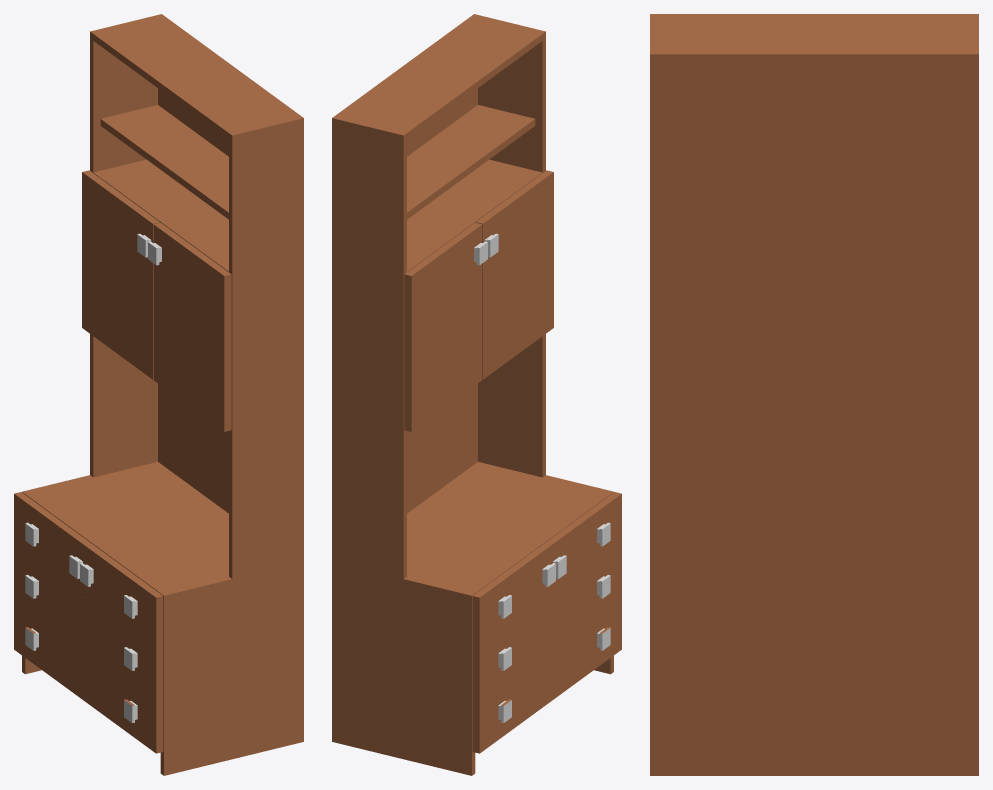
The model's file is 70s.WallSection.fbx.
3 views of the same model, side by side, from view 1: azimuth 30°, elevation 25°; view 2: azimuth 150°, elevation 25°; view 3: azimuth 270°, elevation 25° (orthographic). The views are drawn at different scales.
Visible parts, largest first — view 1: 70s.WallSectionLeft, 70s.WallSectionMid, 70s.WallSectionRight, 70s.WallSectionLeft.Dust, 70s.WallSectionLeft.BottomLeft, 70s.WallSectionRight.BottomRight, 70s.WallSectionRight.DoorTopRight, 70s.WallSectionRight.DoorTopLeft, 70s.WallSectionLeft.DoorTopRight, 70s.WallSectionLeft.BottomRight, 70s.WallSectionLeft.DoorTopLeft, 70s.WallSectionMid.DrawerTop (+2 smaller); view 2: 70s.WallSectionLeft, 70s.WallSectionMid, 70s.WallSectionRight, 70s.WallSectionLeft.BottomRight, 70s.WallSectionLeft.Dust, 70s.WallSectionRight.DoorTopLeft, 70s.WallSectionRight.DoorTopRight, 70s.WallSectionLeft.BottomLeft, 70s.WallSectionLeft.DoorTopLeft, 70s.WallSectionRight.BottomRight, 70s.WallSectionLeft.DoorTopRight, 70s.WallSectionMid.DrawerTop (+3 smaller); view 3: 70s.WallSectionMid, 70s.WallSectionLeft, 70s.WallSectionRight.
Part boxes in pixels (x1,y1,x2,y2): 70s.WallSectionLeft: (22, 14, 303, 775); 70s.WallSectionMid: (23, 14, 303, 775); 70s.WallSectionRight: (30, 16, 303, 758); 70s.WallSectionLeft.Dust: (27, 160, 228, 592); 70s.WallSectionLeft.BottomLeft: (14, 492, 91, 700); 70s.WallSectionRight.BottomRight: (80, 547, 155, 752); 70s.WallSectionRight.DoorTopRight: (163, 230, 220, 424); 70s.WallSectionRight.DoorTopLeft: (92, 177, 149, 371); 70s.WallSectionLeft.DoorTopRight: (148, 222, 231, 431); 70s.WallSectionLeft.BottomRight: (80, 544, 163, 753); 70s.WallSectionLeft.DoorTopLeft: (82, 170, 159, 379); 70s.WallSectionMid.DrawerTop: (14, 492, 163, 642); 70s.WallSectionLeft: (332, 14, 613, 775); 70s.WallSectionMid: (332, 14, 545, 757); 70s.WallSectionRight: (332, 19, 606, 759); 70s.WallSectionLeft.BottomRight: (544, 492, 621, 700); 70s.WallSectionLeft.Dust: (407, 163, 609, 592); 70s.WallSectionRight.DoorTopLeft: (415, 230, 472, 424); 70s.WallSectionRight.DoorTopRight: (486, 177, 543, 371); 70s.WallSectionLeft.BottomLeft: (472, 544, 555, 753); 70s.WallSectionLeft.DoorTopLeft: (404, 222, 487, 431); 70s.WallSectionRight.BottomRight: (551, 492, 620, 680); 70s.WallSectionLeft.DoorTopRight: (476, 170, 553, 379); 70s.WallSectionMid.DrawerTop: (472, 492, 621, 648); 70s.WallSectionMid: (650, 14, 978, 775); 70s.WallSectionLeft: (650, 14, 978, 775); 70s.WallSectionRight: (650, 14, 978, 761).
Size of the model in its own units: 55.87 by 216 by 89.25.
